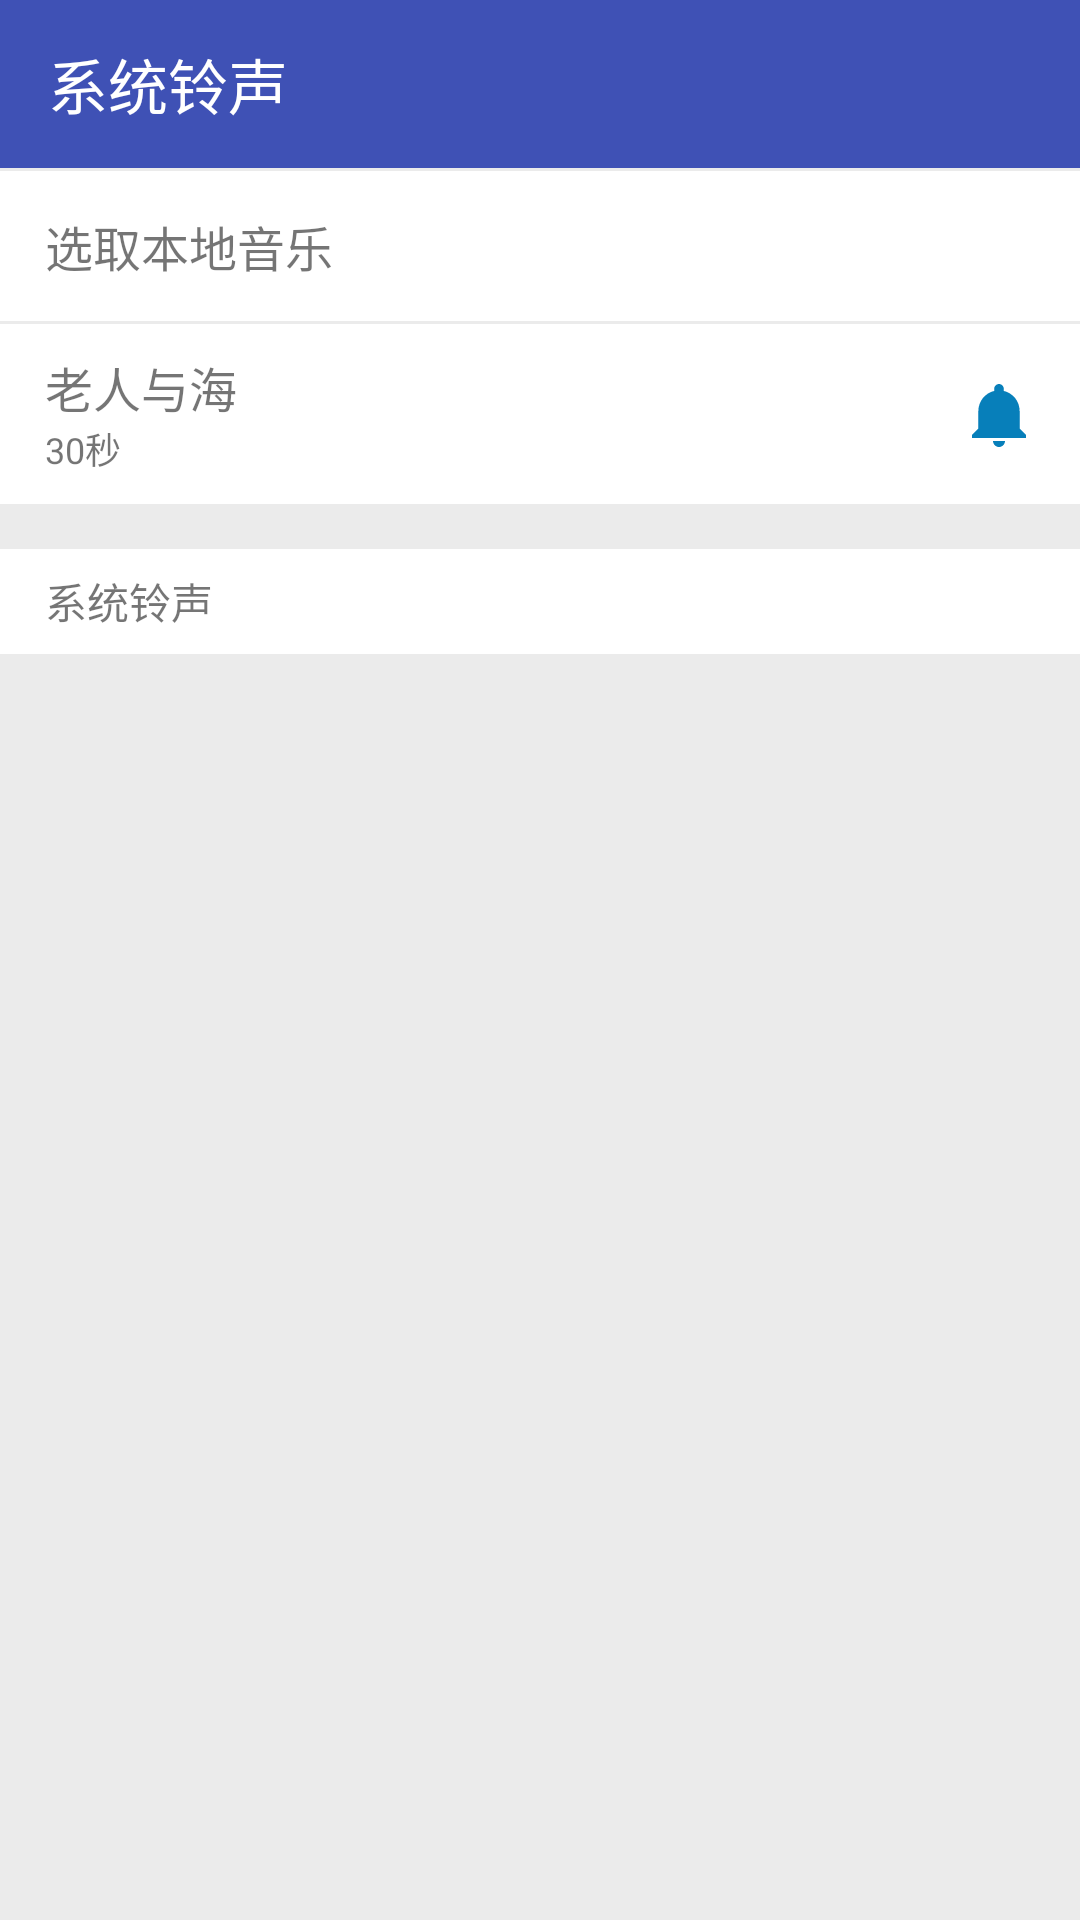

Icon bounding boxes for this 1080 × 1920 phone screenshot, format (x1, y1, x2, y2):
add alert: (972, 384, 1026, 447)
